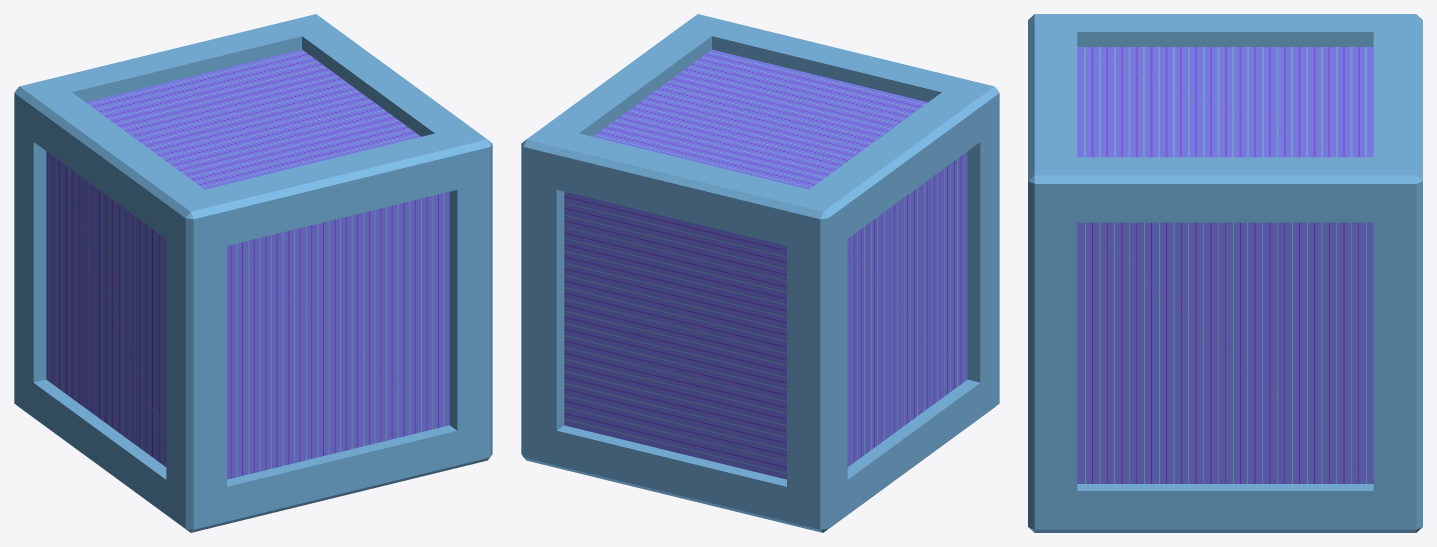
File: WoodBlocks_Bl_00.FBX
3 views of the same model, side by side, from view 1: azimuth 30°, elevation 25°; view 2: azimuth 150°, elevation 25°; view 3: azimuth 270°, elevation 25° (orthographic). The views are drawn at different scales.
Visible parts, largest first — view 1: WoodBlocks_Bl_Rough_00, WoodBlocks_Bl_00; view 2: WoodBlocks_Bl_Rough_00, WoodBlocks_Bl_00; view 3: WoodBlocks_Bl_Rough_00, WoodBlocks_Bl_00.
Part boxes in pixels (x1,y1,x2,y2): WoodBlocks_Bl_Rough_00: (46, 49, 449, 479); WoodBlocks_Bl_00: (14, 14, 492, 532); WoodBlocks_Bl_Rough_00: (564, 49, 967, 479); WoodBlocks_Bl_00: (521, 14, 999, 532); WoodBlocks_Bl_Rough_00: (1077, 47, 1373, 483); WoodBlocks_Bl_00: (1028, 14, 1422, 532).
Bounding box in the file's own units: 1.2 × 1.2 × 1.2.
